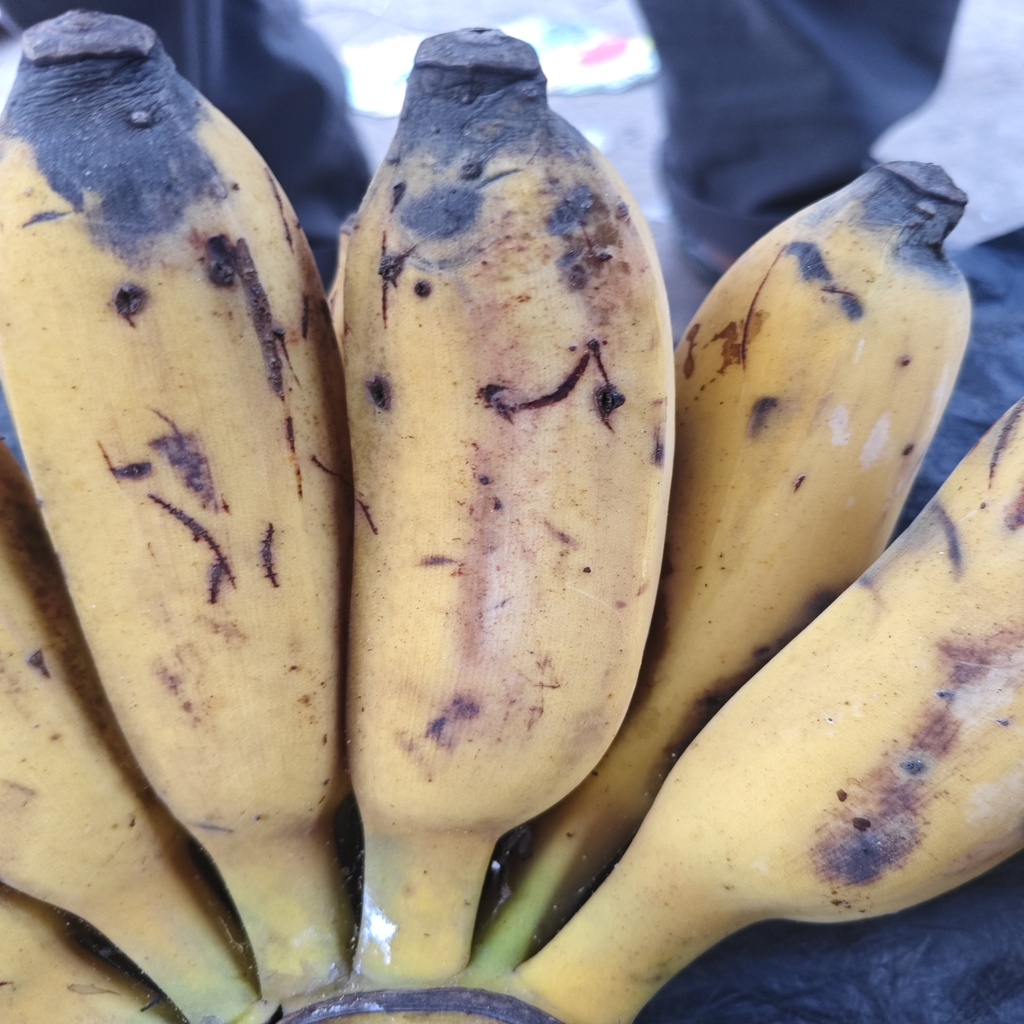unhealthy: (4, 20, 351, 831), (338, 35, 677, 837)
